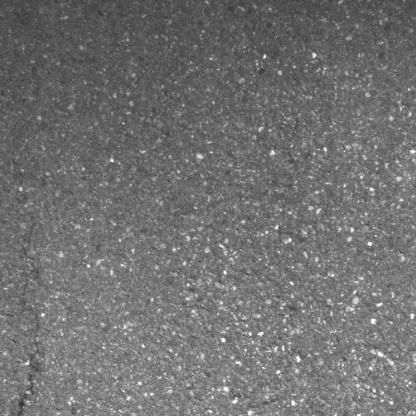Cracks: (15, 302, 43, 416)
